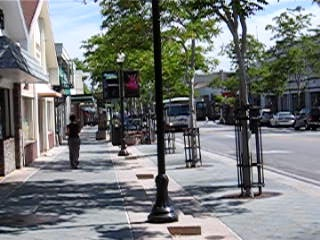person: (64, 115, 84, 172), (63, 115, 83, 172), (65, 115, 85, 172), (64, 114, 84, 171), (64, 116, 84, 173)
target_negative: (109, 61, 316, 80), (123, 159, 184, 180), (161, 215, 193, 240), (302, 44, 306, 114), (227, 238, 276, 240)
